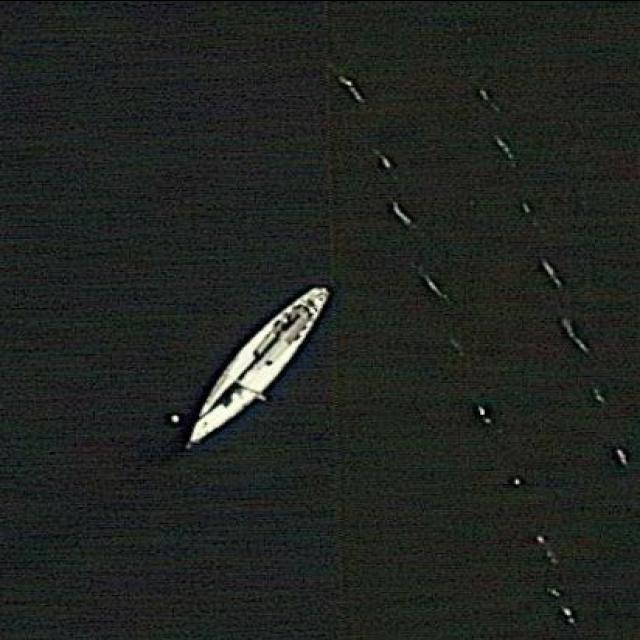ship: (184, 281, 336, 453)
